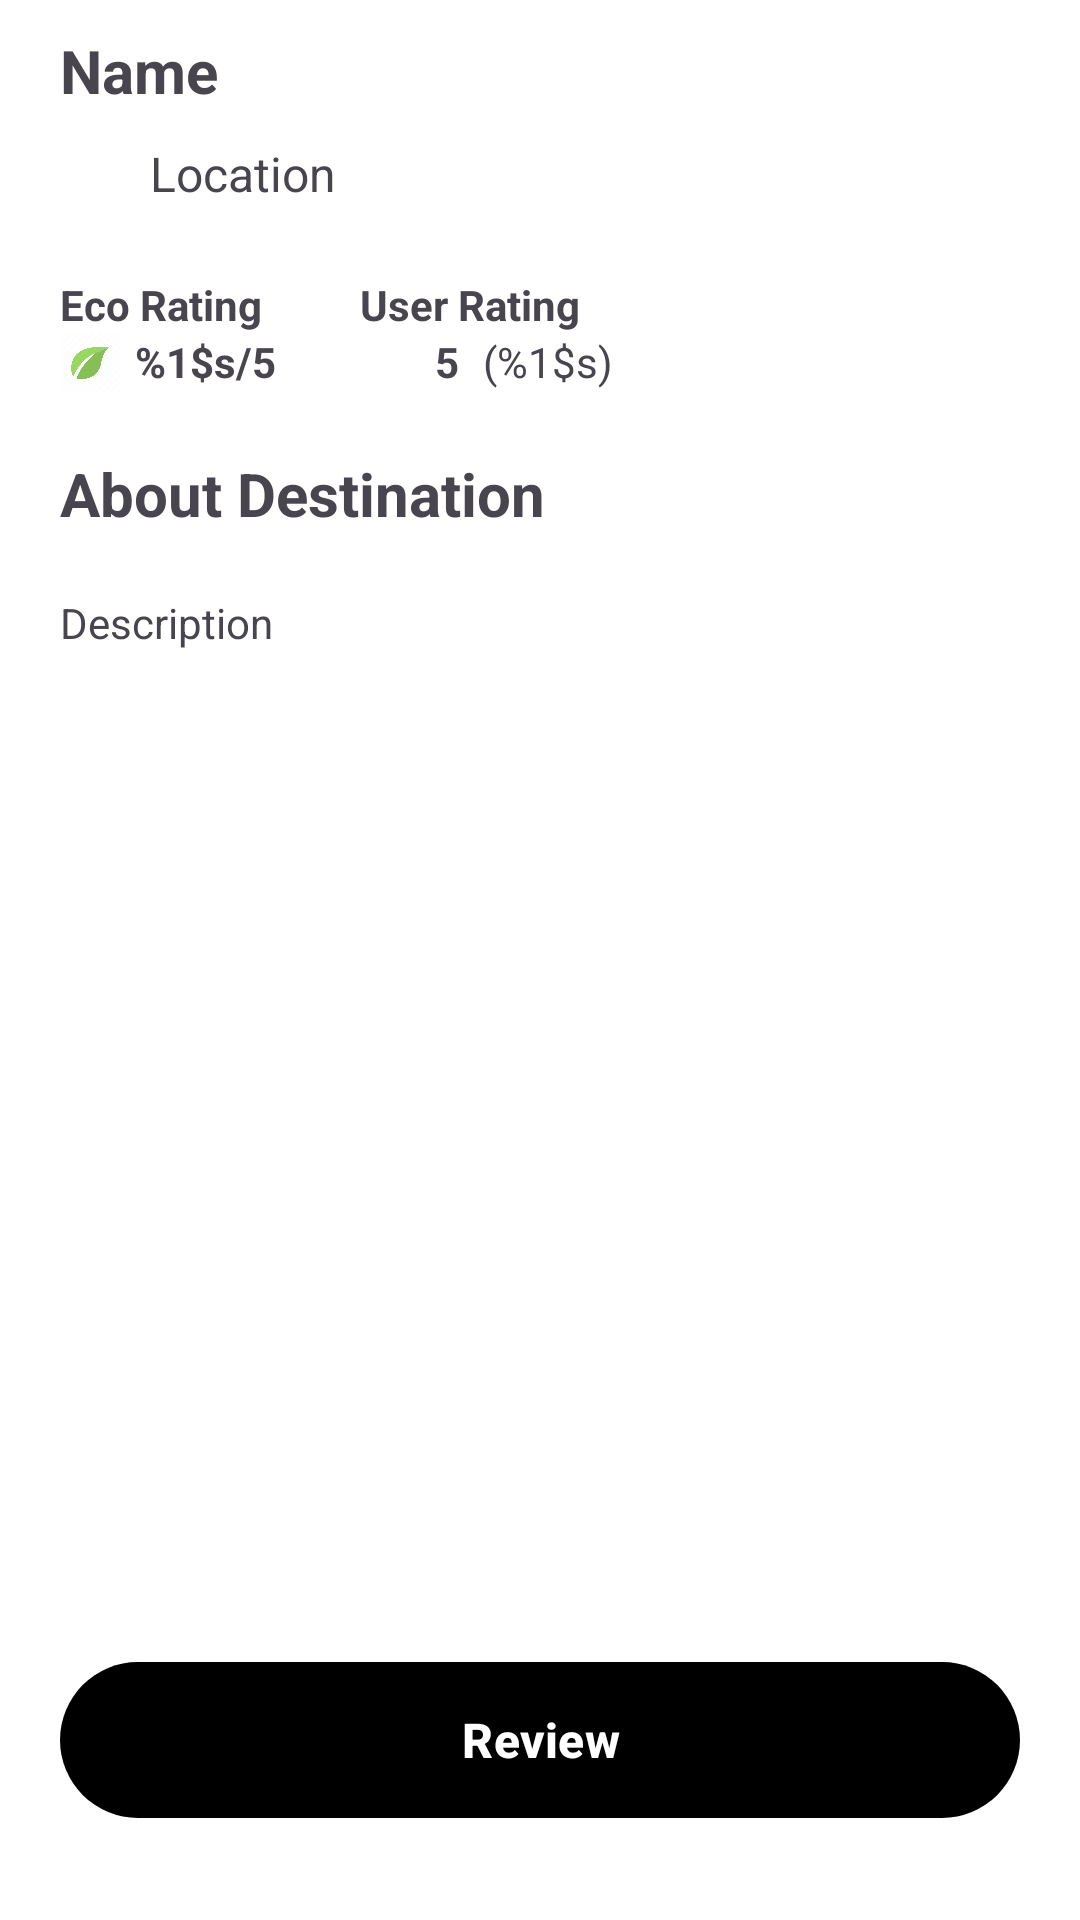

Icon click points for this 1080 x 1920 phone screenshot, format [x,y]:
leaf: [90,363]
